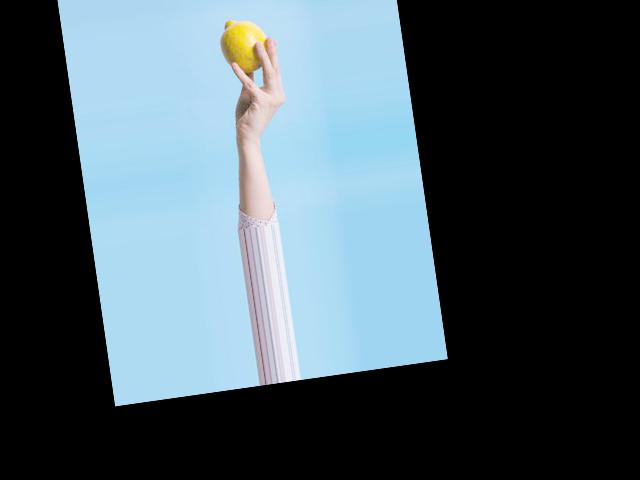lemon: (212, 10, 291, 89)
